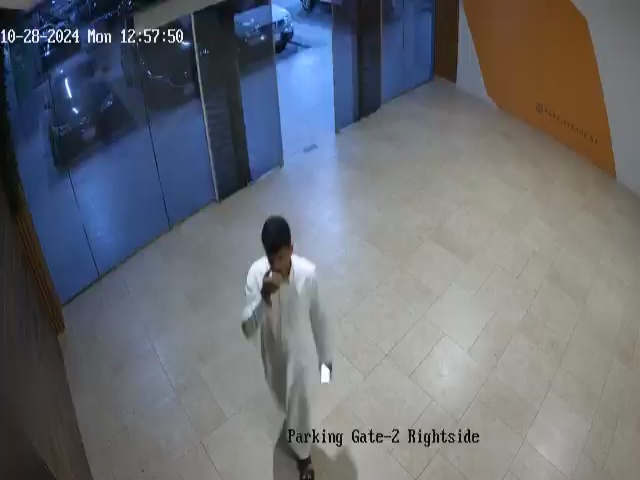male: (240, 215, 333, 479)
